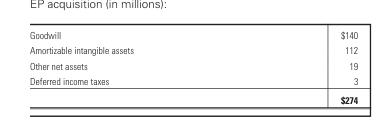table: (29, 28, 357, 105)
table column: (29, 28, 236, 105), (236, 28, 357, 105)
table row: (29, 72, 357, 89), (29, 89, 357, 105), (29, 42, 357, 57), (29, 57, 357, 72), (29, 28, 357, 42)
